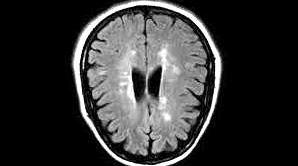Normal_Brain: (1, 1, 298, 166)
